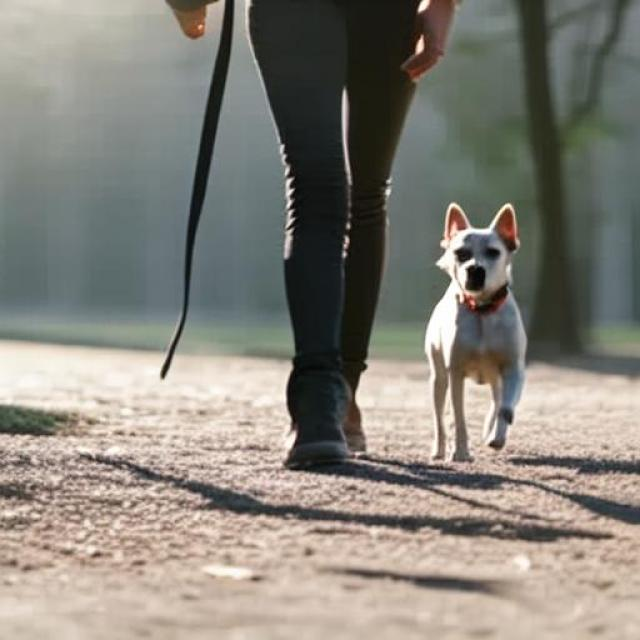Unleashed_Dog: (246, 0, 530, 471)
